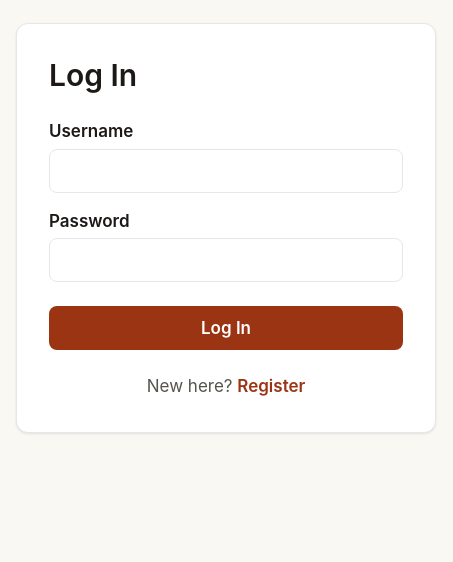
Test: Login › distinguishes an unreachable-server error from an authentication error
The image size is (453, 562).
Step 1. Type "demo_worker_electrician" into the field labelled "Username" → (226, 171), box [49,149,403,193]
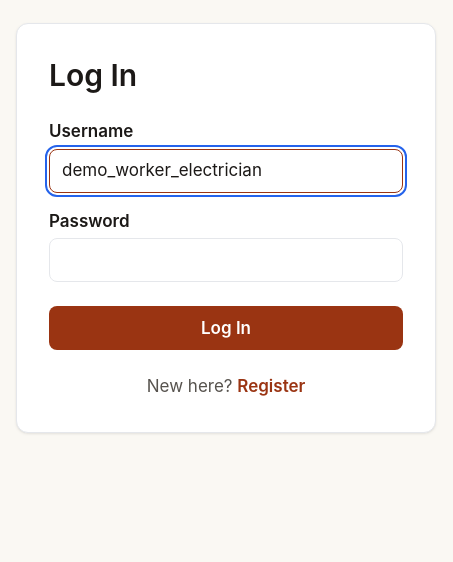
Step 2. Type "DemoPass123!" into the password field labelled "Password" → (226, 260), box [49,238,403,282]
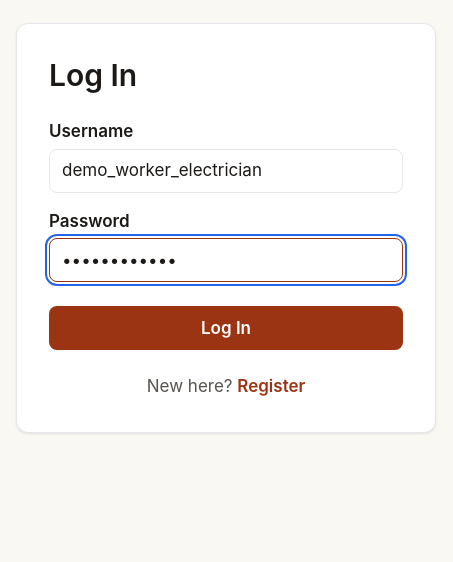
Step 3. Click the button "Log In" → (226, 328), box [49,306,403,350]
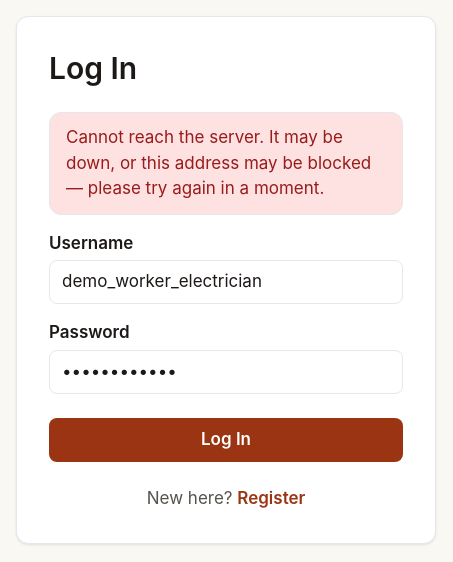
expect the text "Cannot reach the server" is shown: met, box [66,127,371,198]
